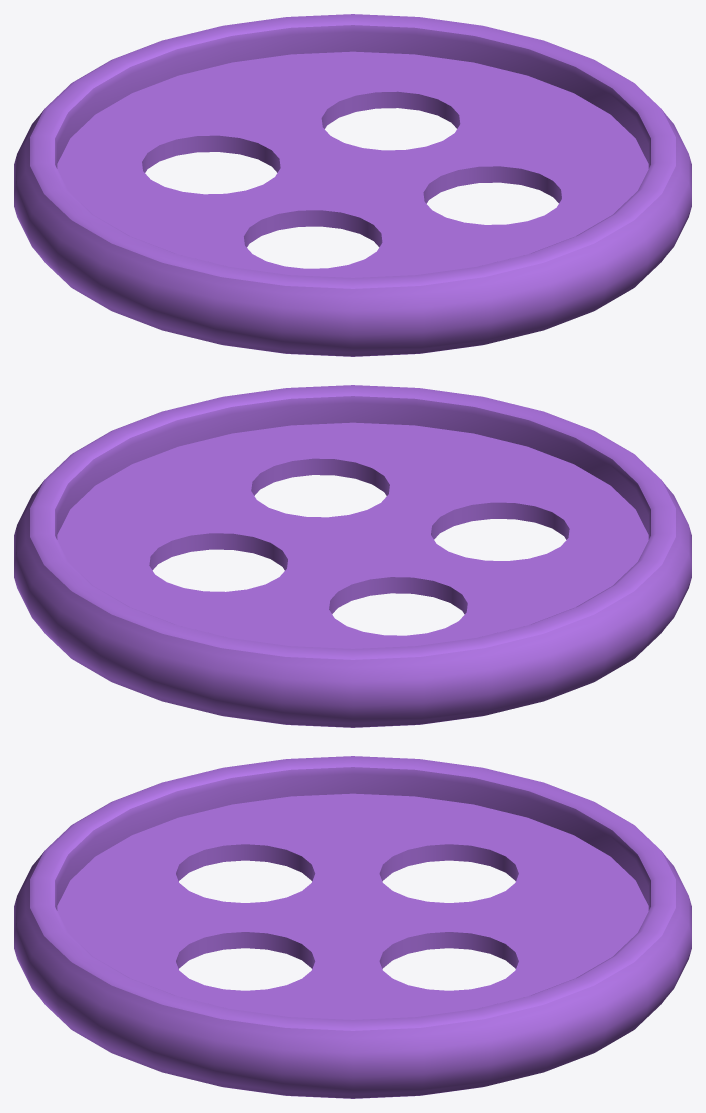
The model's file is button_purple.fbx.
3 views of the same model, one above another, from view 1: azimuth 30°, elevation 25°; view 2: azimuth 150°, elevation 25°; view 3: azimuth 270°, elevation 25° (orthographic).
Visible parts, largest first — view 1: button_purple; view 2: button_purple; view 3: button_purple.
Part boxes in pixels (x1,y1,x2,y2): button_purple: (14, 14, 691, 356); button_purple: (14, 385, 691, 727); button_purple: (14, 756, 691, 1098).
Bounding box in the file's own units: 119 × 14.06 × 119.
